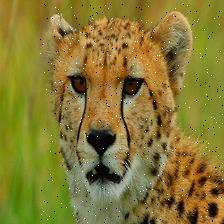Cheetha: (40, 4, 224, 224)
